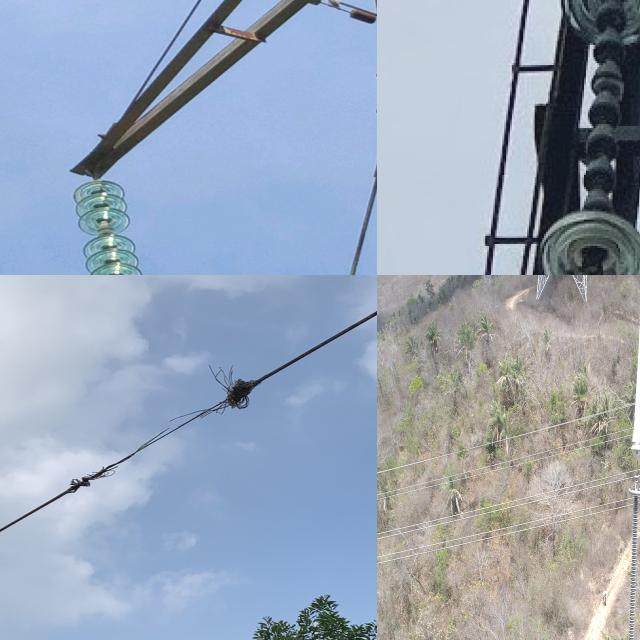杆塔: (64, 0, 377, 275), (463, 0, 640, 275)
正常绝缘子: (538, 0, 640, 275), (68, 179, 155, 275), (619, 457, 640, 640)
电缆破损: (47, 348, 288, 509)
绝缘子破损: (585, 133, 617, 167), (591, 71, 626, 102), (582, 169, 615, 199), (588, 102, 622, 130), (593, 11, 632, 34), (592, 42, 626, 68), (95, 224, 116, 234)
